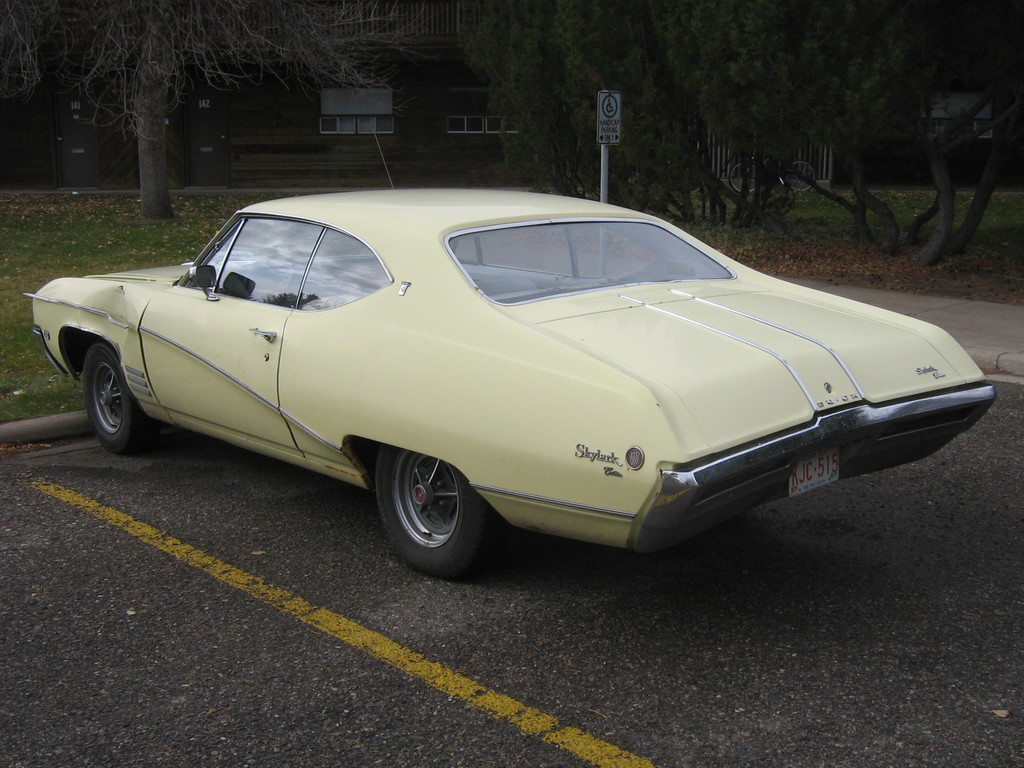Car: (24, 132, 991, 593)
